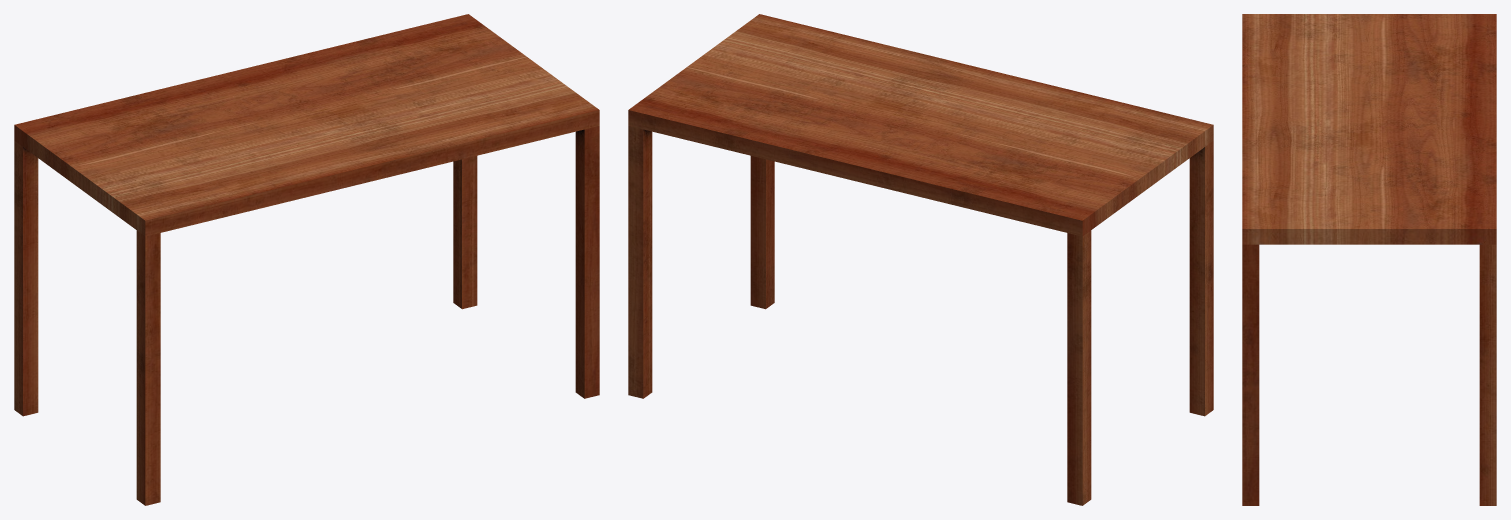
File: table.glb
3 views of the same model, side by side, from view 1: azimuth 30°, elevation 25°; view 2: azimuth 150°, elevation 25°; view 3: azimuth 270°, elevation 25° (orthographic). The views are drawn at different scales.
Parts seen in each view (by area): view 1: table5:polySurface1; view 2: table5:polySurface1; view 3: table5:polySurface1.
Part boxes in pixels (x1,y1,x2,y2): table5:polySurface1: (14,14,599,505); table5:polySurface1: (628,14,1213,505); table5:polySurface1: (1242,14,1496,505).
Bounding box in the file's own units: 2 × 1.2 × 1.
1 material, 1 textured.
